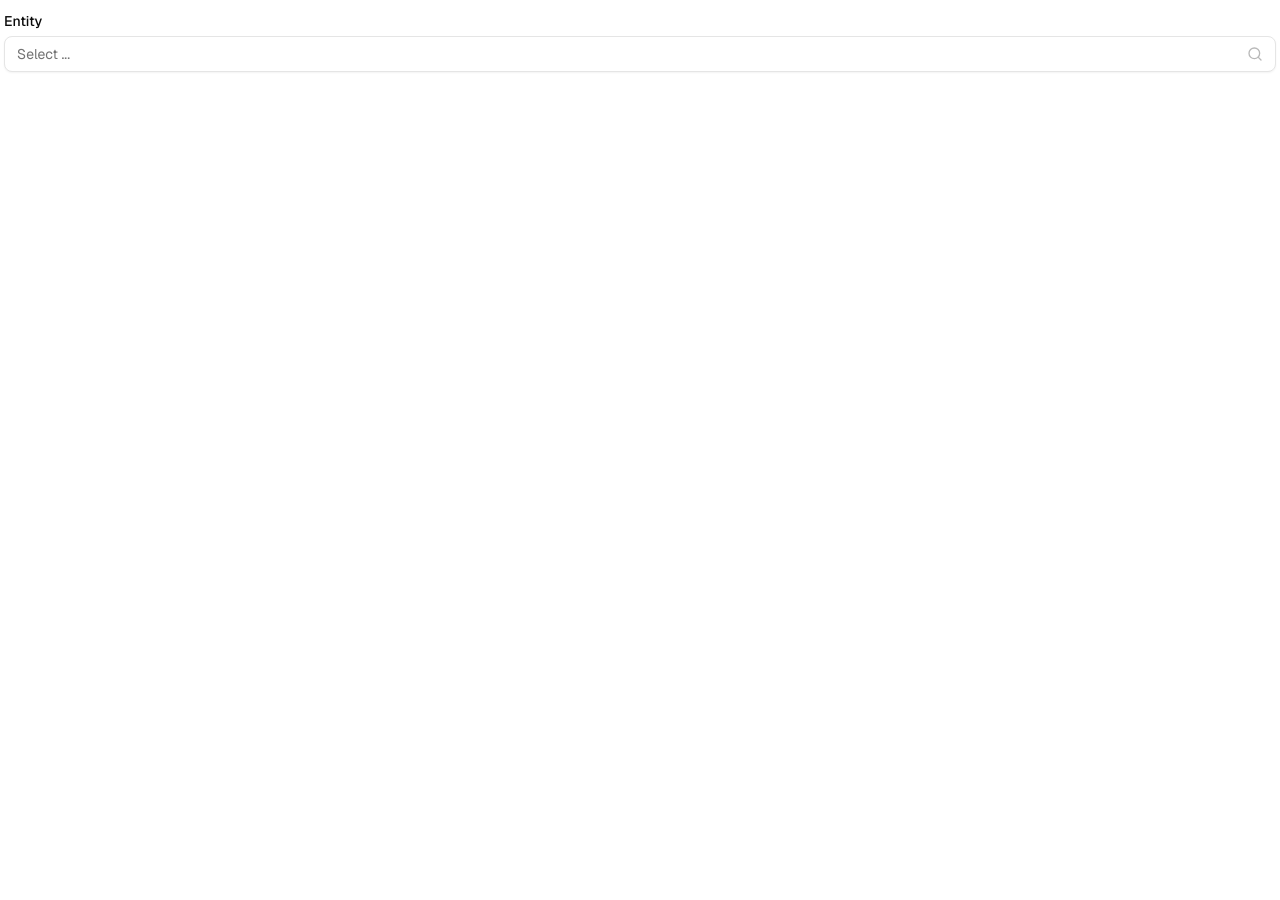
it: Story 3.3: Tabulkový Dropdown v Relationship Pickeru › should render relationship picker with custom columns
Click the dropdown: {"x": 640, "y": 54} [4, 36, 1276, 72]
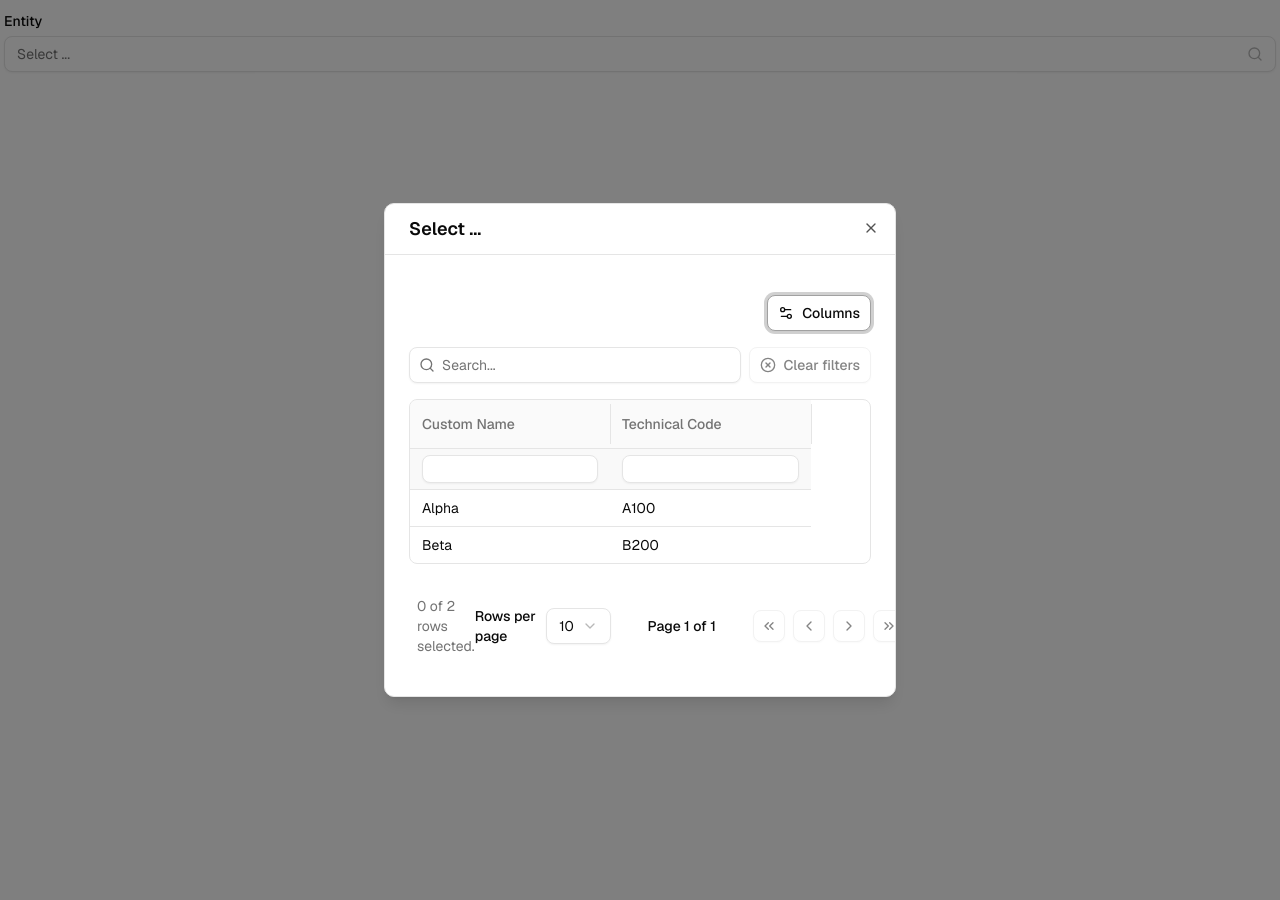
Expected: the text "Custom Name" is shown, [422, 414, 515, 434]
Expected: the text "Technical Code" is shown, [622, 414, 722, 434]
